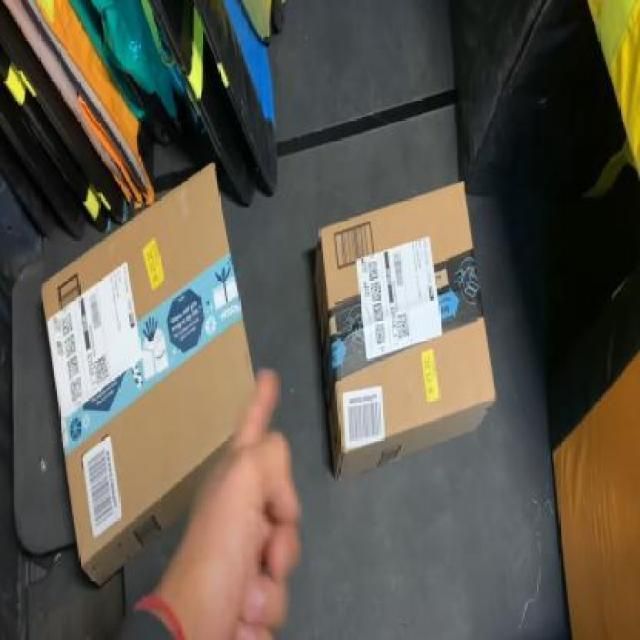box: (45, 160, 255, 586), (316, 181, 498, 483)
